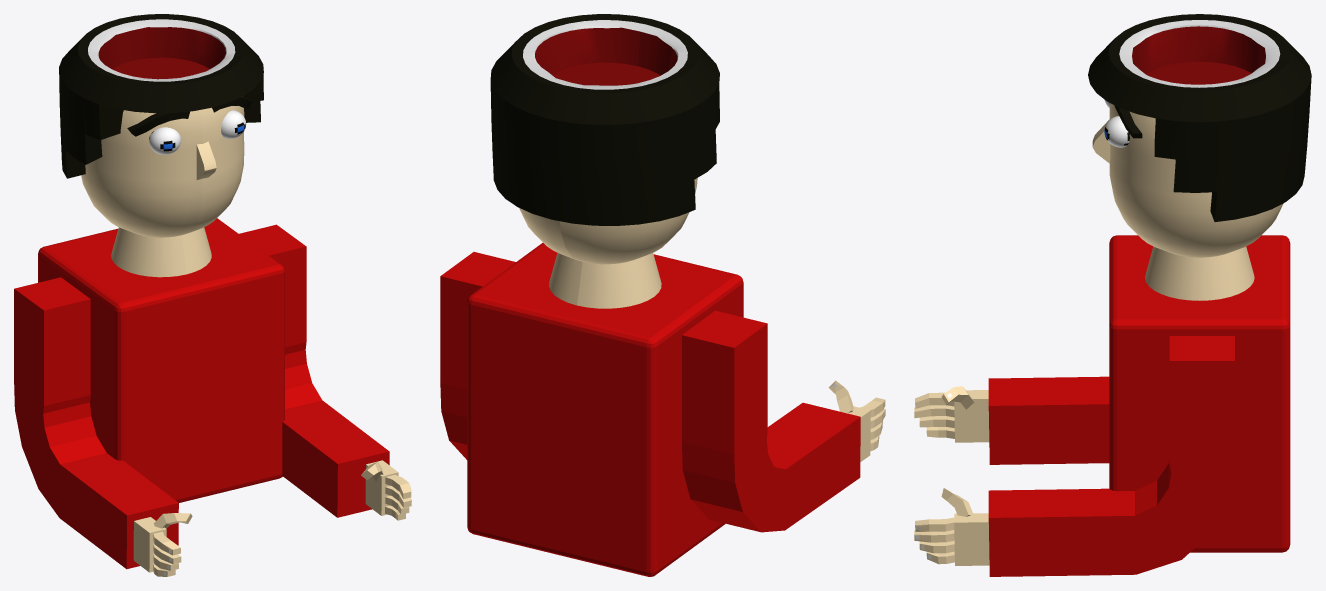
File: GameArea2.fbx
3 renders of one model, left to right at view 1: azimuth 30°, elevation 25°; view 2: azimuth 150°, elevation 25°; view 3: azimuth 270°, elevation 25°, orthographic. The views are drawn at different scales.
Parts seen in each view (by area): view 1: GameArea; view 2: GameArea; view 3: GameArea.
Part boxes in pixels (x1=…): GameArea: x1=14, y1=14, x2=411, y2=576; GameArea: x1=440, y1=14, x2=885, y2=576; GameArea: x1=914, y1=14, x2=1311, y2=576.
Bounding box in the file's own units: 2141 × 3274 × 2576.
